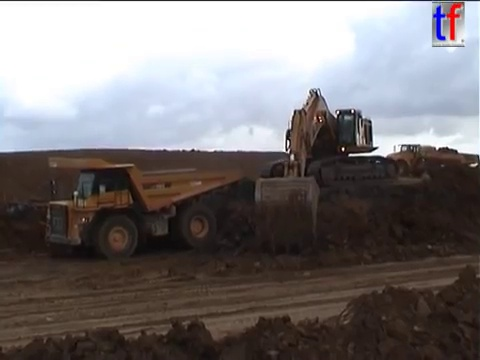excavator: (249, 85, 400, 256)
truck: (37, 154, 246, 261), (383, 142, 468, 178), (418, 145, 480, 177)
